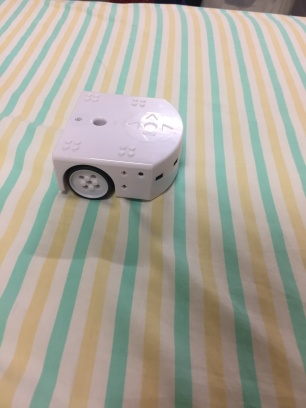thymio: (39, 87, 183, 204)
